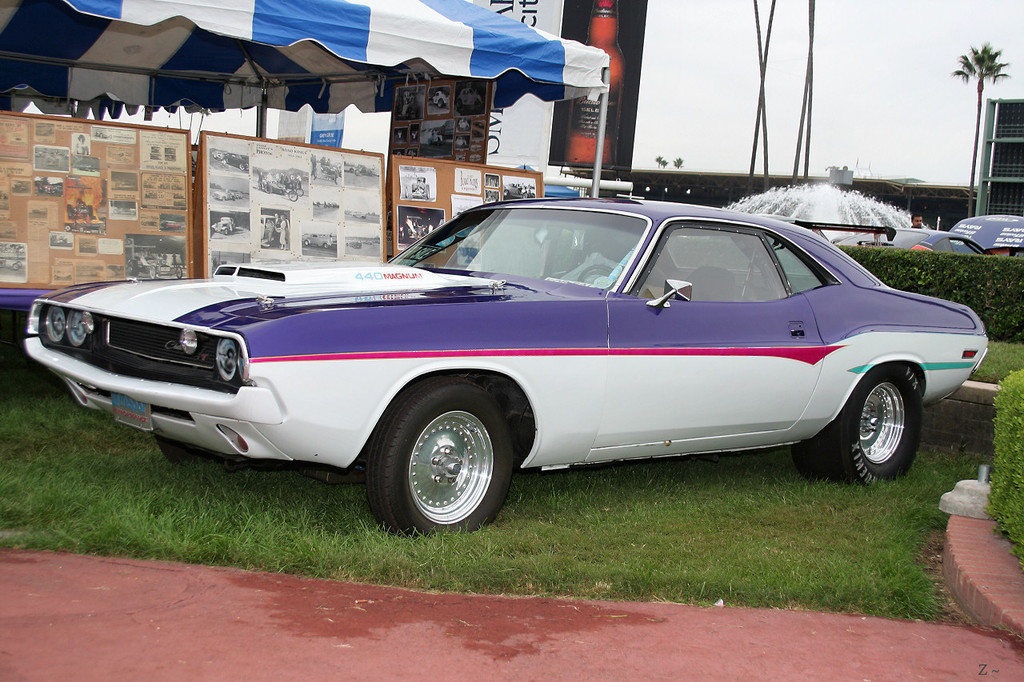Car: (24, 197, 988, 538), (794, 214, 1023, 255), (123, 239, 182, 281), (755, 211, 834, 242), (260, 215, 291, 246), (398, 213, 432, 239), (261, 179, 304, 199), (211, 150, 249, 169), (502, 179, 536, 198), (33, 149, 67, 167), (403, 176, 428, 199), (455, 87, 483, 104), (211, 216, 235, 233), (303, 233, 331, 247), (403, 95, 420, 118), (0, 256, 20, 271), (426, 130, 443, 146), (211, 187, 233, 199), (359, 161, 376, 176), (432, 90, 446, 107), (280, 173, 296, 187), (14, 179, 29, 192), (35, 125, 53, 135), (40, 183, 56, 194), (160, 221, 181, 229), (483, 192, 497, 202), (115, 179, 134, 186), (96, 129, 110, 138), (341, 163, 355, 172), (456, 118, 468, 128), (348, 210, 365, 217), (112, 207, 135, 212), (455, 135, 465, 146), (53, 271, 71, 277), (348, 240, 361, 247), (455, 152, 465, 160), (31, 208, 47, 212), (233, 191, 242, 197), (324, 202, 337, 206), (473, 122, 483, 127), (396, 130, 402, 138), (408, 148, 416, 154), (412, 130, 418, 138), (361, 240, 370, 243), (373, 239, 377, 243), (396, 151, 400, 154)
